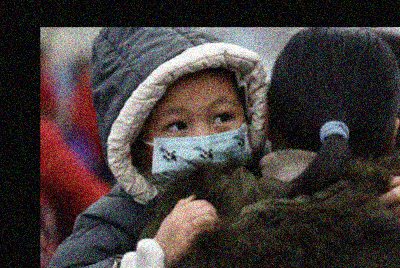with_mask: (149, 92, 253, 188)
